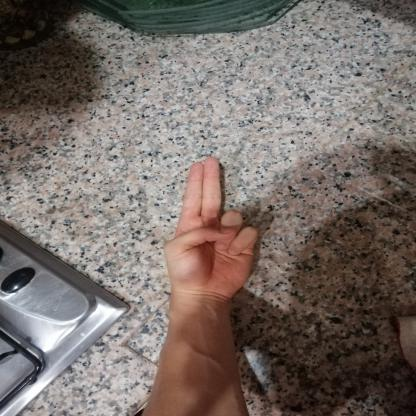TA: (154, 148, 265, 302)
